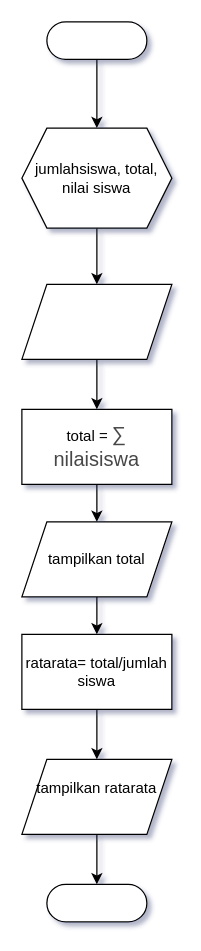
Image size: 201x951. Some labels were removed from this diagram. Here are the shapes that lost their labels. From the top down, the centre of each, then its label:
[96,40]: Mulai
[96,321]: input nilai siswa
[96,902]: selesai
